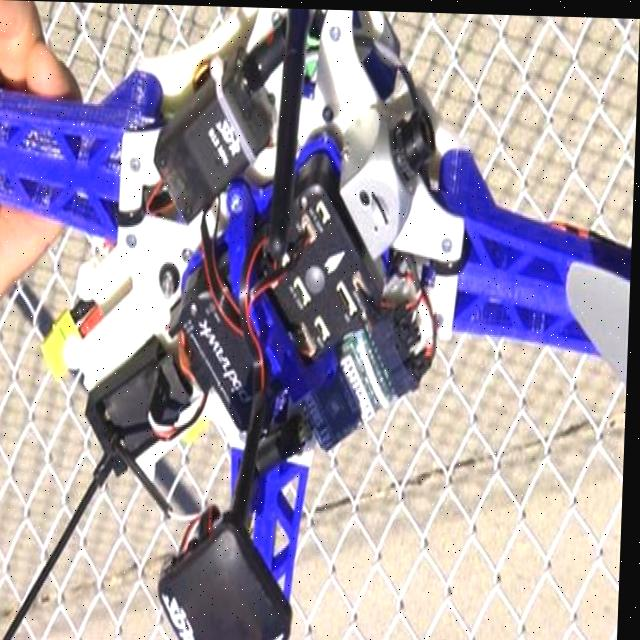drone: (0, 4, 639, 640)
